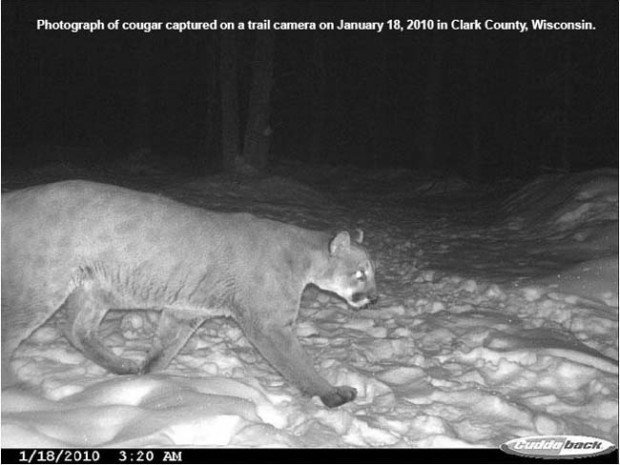mountain lion: (6, 170, 393, 405)
